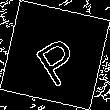P_NW: (26, 24, 84, 86)
